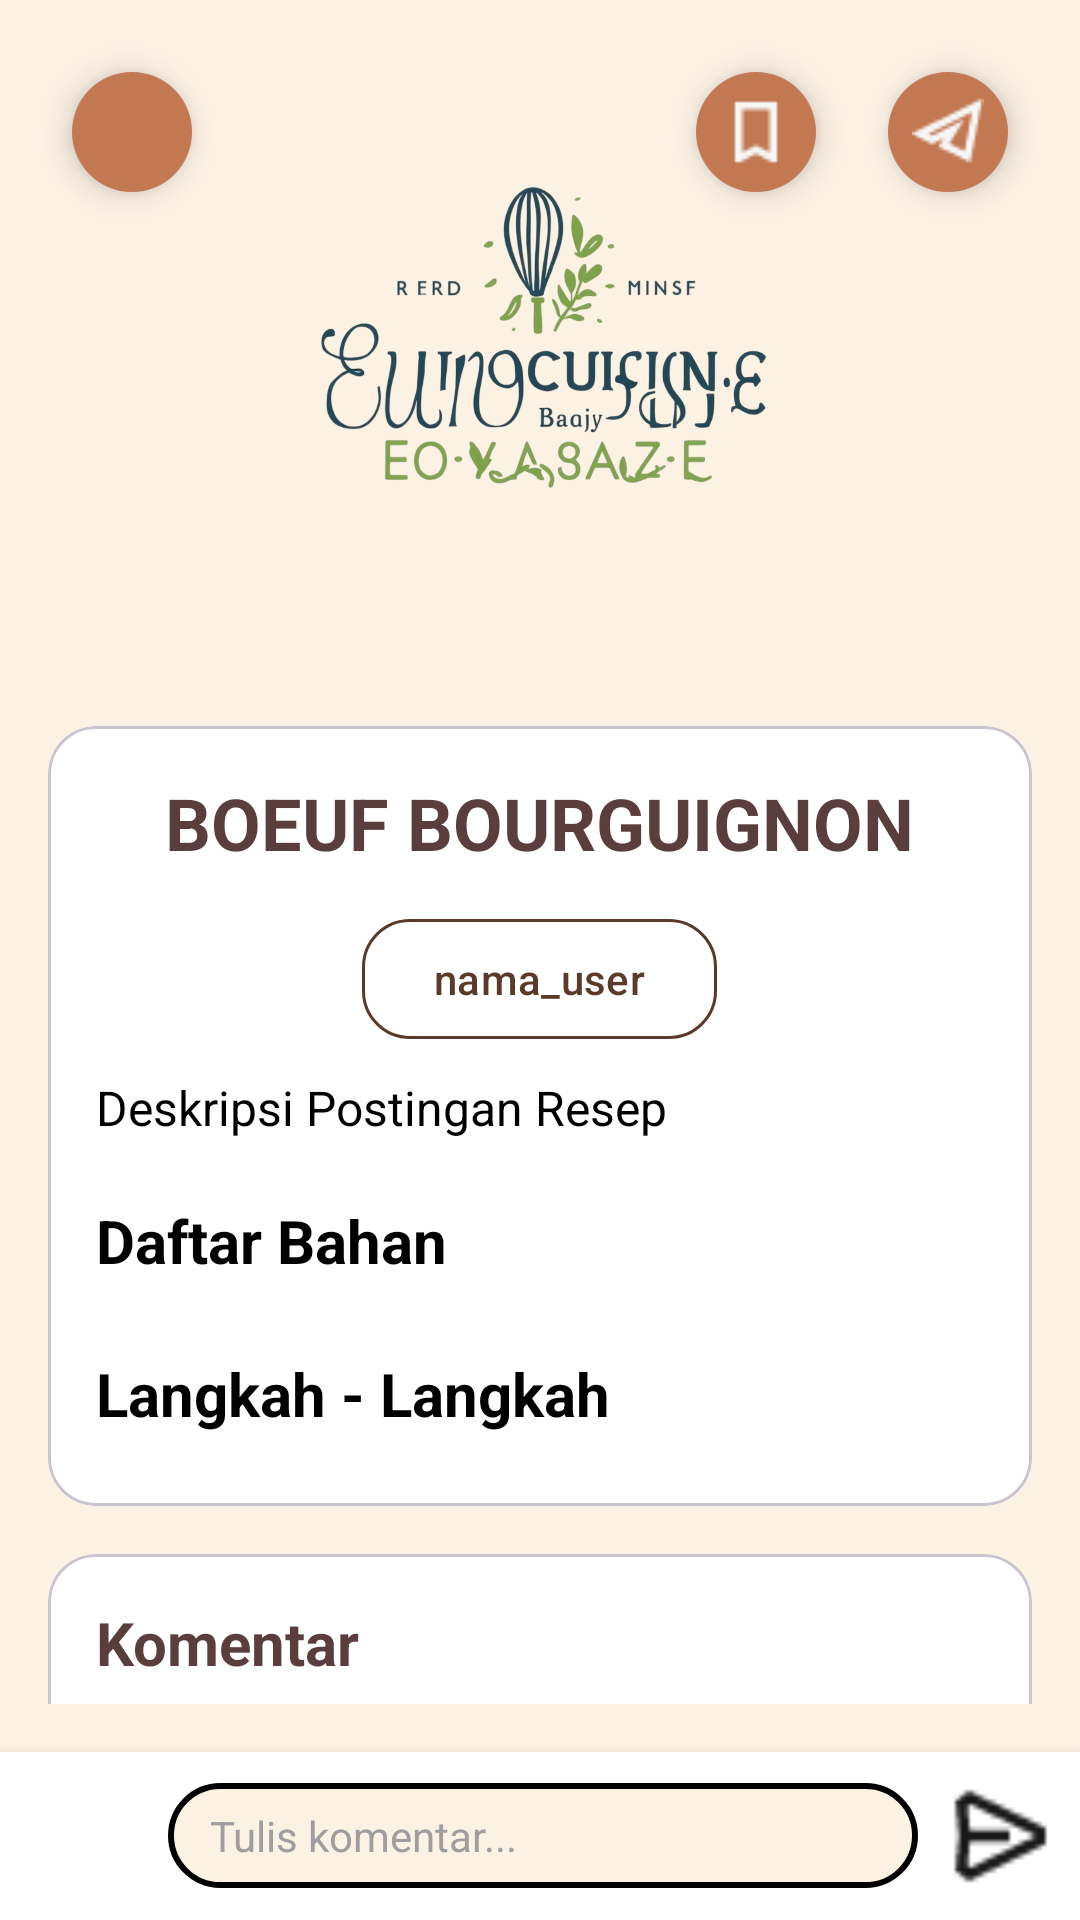

Icon click points for this 1080px×1920px phone screenshot, format (x=x, y=y):
Favorit: (x=756, y=132)
Kirim: (x=1000, y=1836)
Share: (x=948, y=132)
